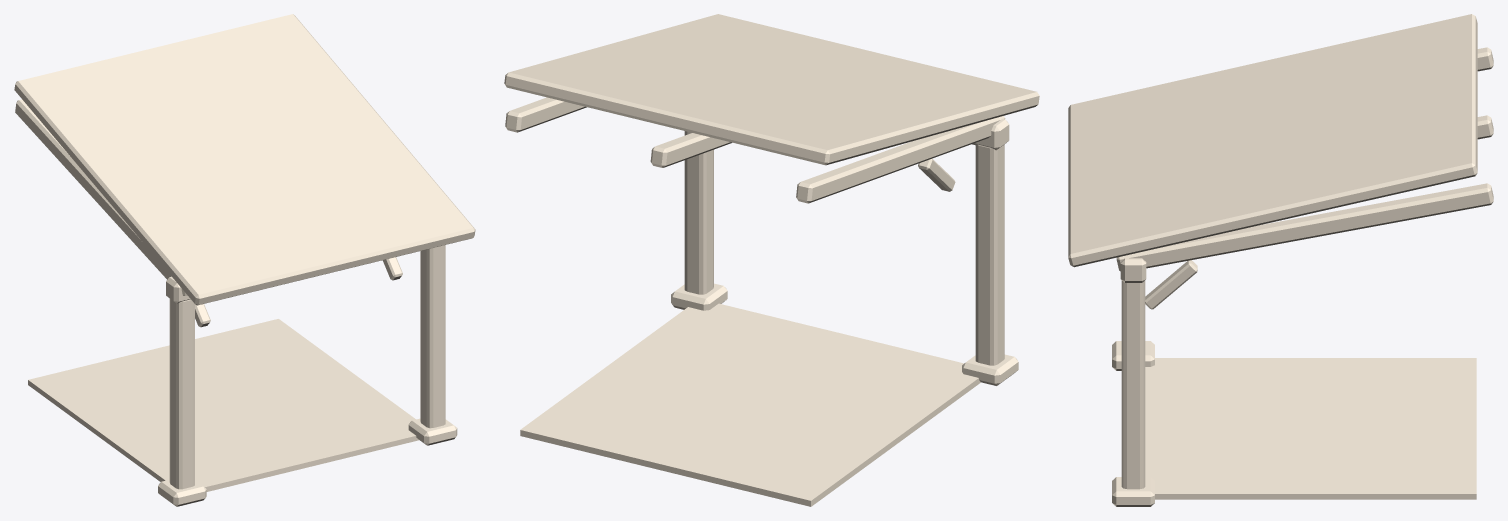
Rendered from SM_VK_LeanTo.fbx.
The picture shows the model from 3 angles, left to right: view 1: azimuth 30°, elevation 25°; view 2: azimuth 150°, elevation 25°; view 3: azimuth 270°, elevation 25°; orthographic projection. The views are drawn at different scales.
Parts seen in each view (by area): view 1: SM_VK_LeanTo.001; view 2: SM_VK_LeanTo.001; view 3: SM_VK_LeanTo.001.
Boxes of the visible parts, x1=… form: SM_VK_LeanTo.001: x1=14, y1=14, x2=475, y2=506; SM_VK_LeanTo.001: x1=504, y1=14, x2=1039, y2=506; SM_VK_LeanTo.001: x1=1068, y1=14, x2=1493, y2=506.
Bounding box in the file's own units: 3.4 × 3.53 × 3.97.
